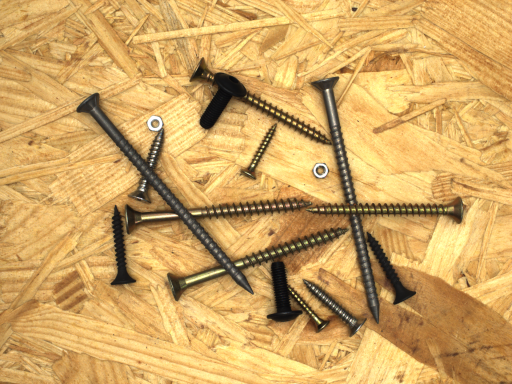screw_long: (63, 79, 277, 318), (300, 61, 403, 339)
